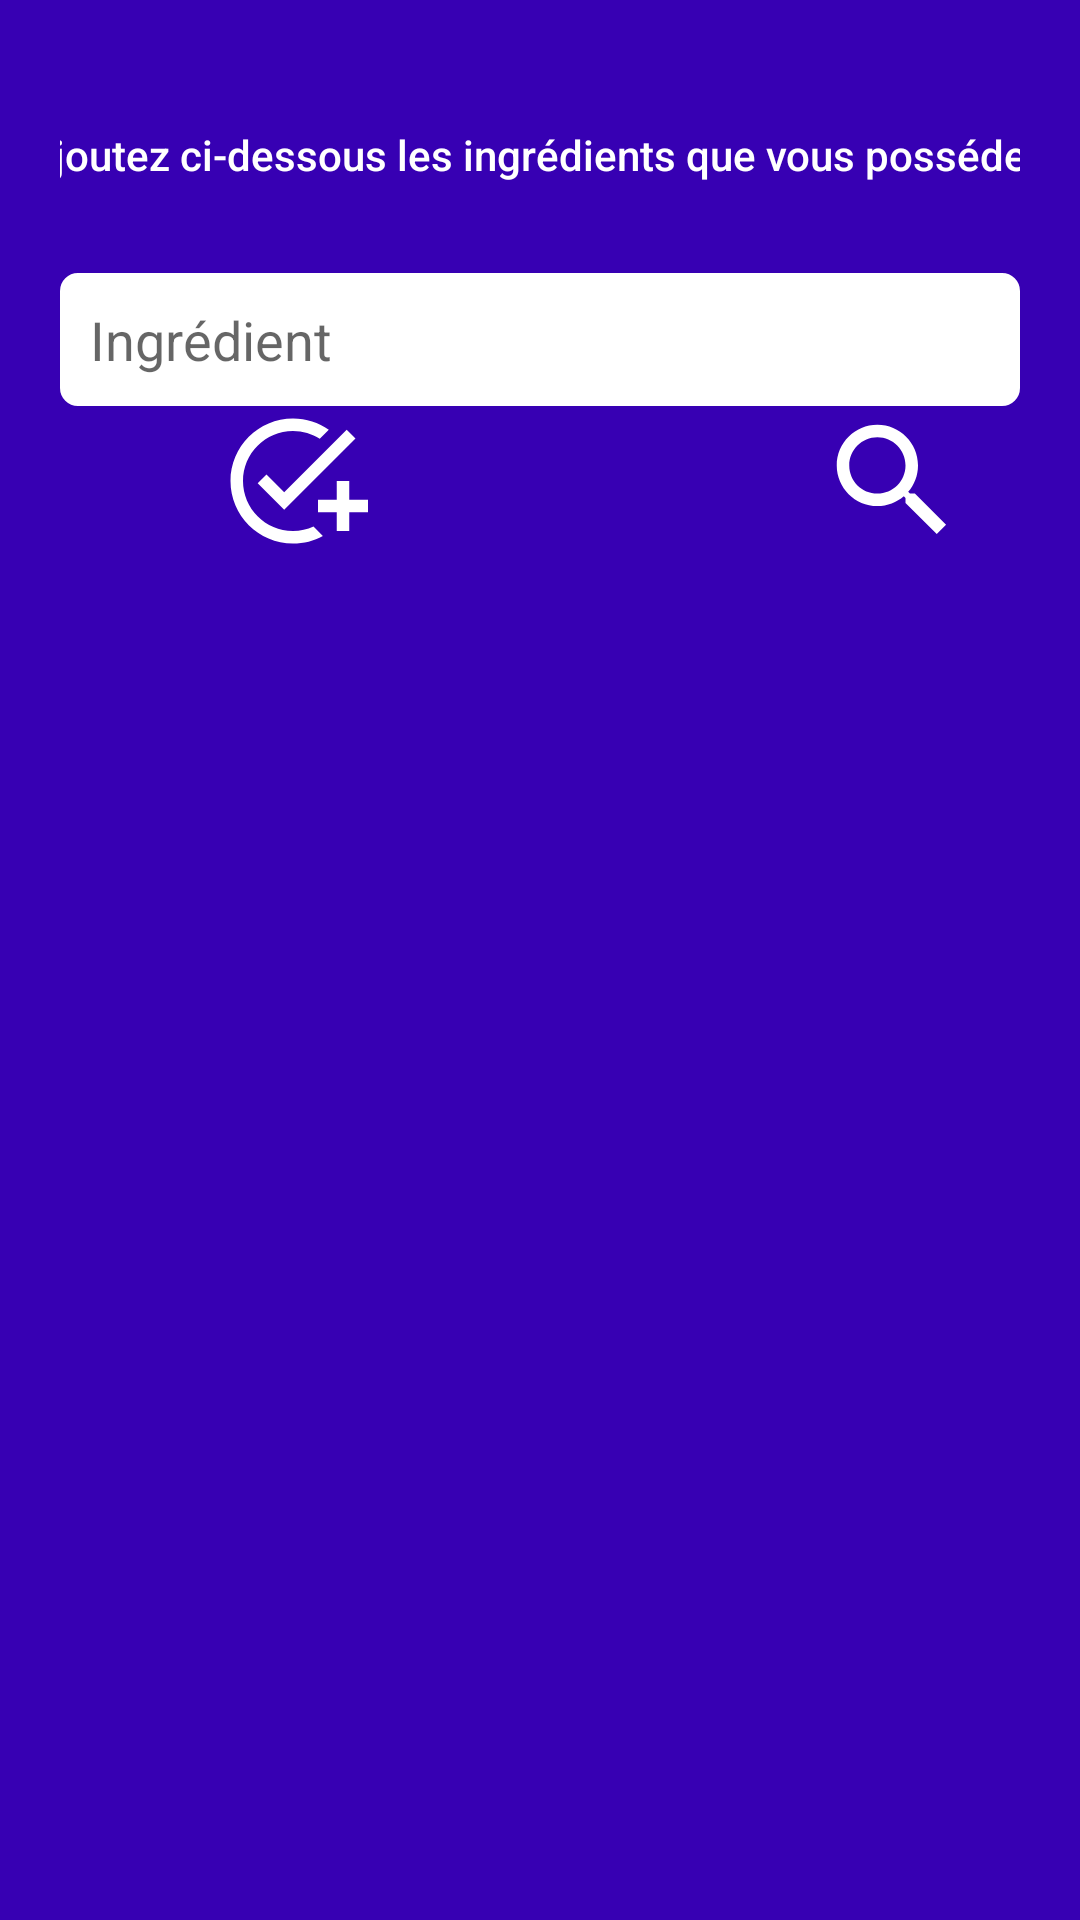

Where to tap for icons on this 1080w x 1920h app screen, as point (x, y):
research: point (891, 479)
